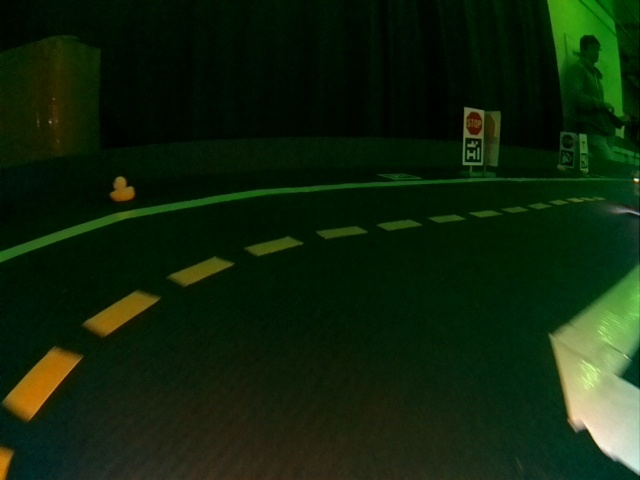Duckie: (109, 177, 135, 201)
QR code: (463, 138, 483, 165), (379, 173, 421, 180), (560, 150, 573, 167), (580, 152, 588, 170)
Stop sign: (465, 108, 483, 136), (561, 133, 574, 148)
